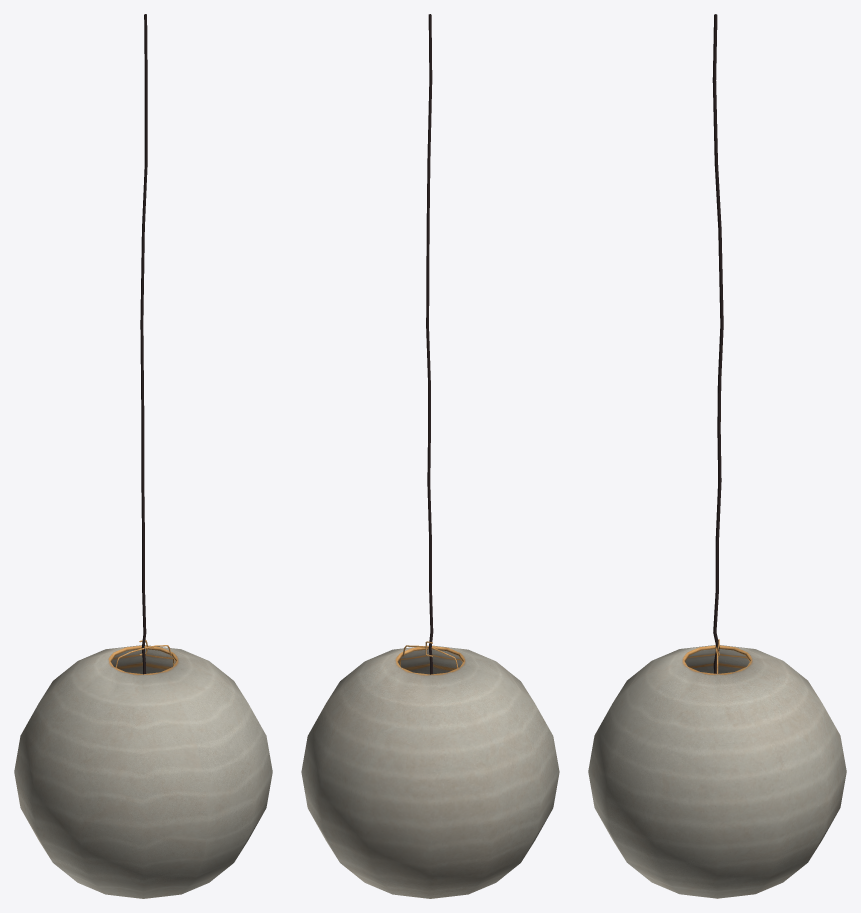
Rendered from coastal_pendant_lamp.glb.
3 renders of one model, left to right at view 1: azimuth 30°, elevation 25°; view 2: azimuth 150°, elevation 25°; view 3: azimuth 270°, elevation 25°, orthographic.
Parts seen in each view (by area): view 1: Shade_low, Cable_low; view 2: Shade_low, Cable_low; view 3: Shade_low, Cable_low.
Boxes of the visible parts, left/top/right/bottom form: Shade_low: left=14, top=645, right=272, bottom=898; Cable_low: left=140, top=14, right=147, bottom=674; Shade_low: left=301, top=645, right=559, bottom=898; Cable_low: left=426, top=14, right=433, bottom=674; Shade_low: left=588, top=645, right=846, bottom=898; Cable_low: left=712, top=14, right=723, bottom=673.
Bounding box in the file's own units: 84.97 × 317 × 84.97.
1 material, 1 textured.
